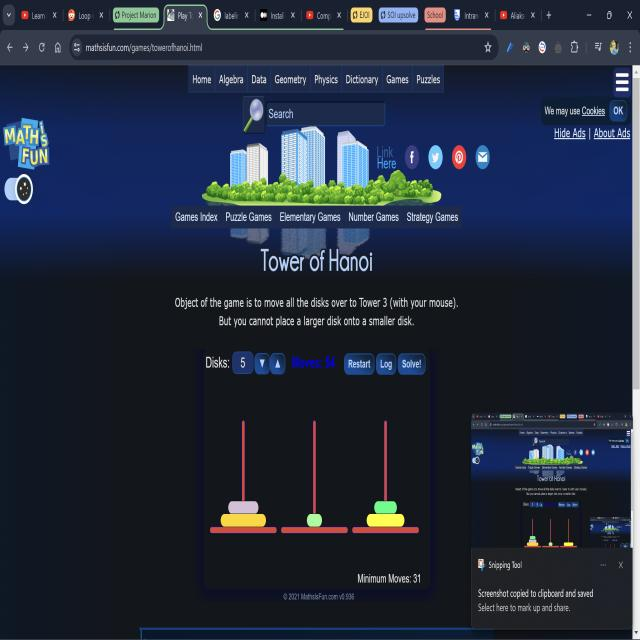disk1: (307, 514, 322, 526)
disk2: (374, 501, 397, 513)
disk3: (228, 501, 259, 514)
disk4: (367, 514, 405, 526)
disk5: (220, 514, 266, 527)
